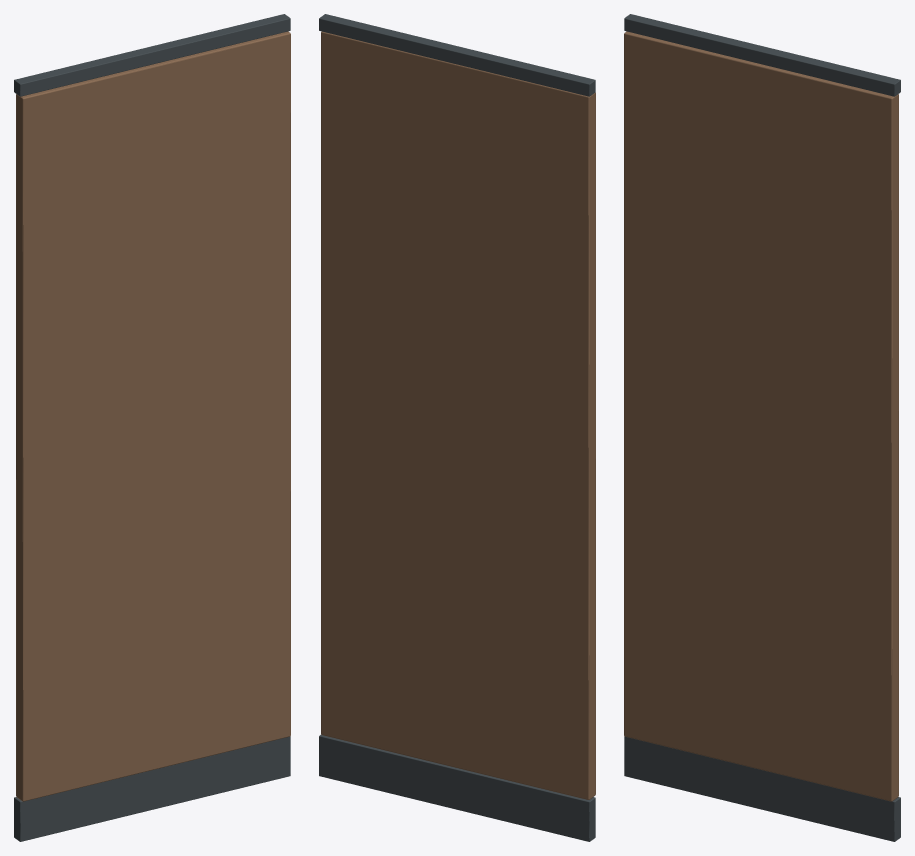
The model's file is walnut_panel.glb.
3 views of the same model, side by side, from view 1: azimuth 30°, elevation 25°; view 2: azimuth 150°, elevation 25°; view 3: azimuth 330°, elevation 25° (orthographic).
Visible parts, largest first — view 1: Face, Trim; view 2: Face, Trim; view 3: Face, Trim.
Boxes of the visible parts, x1,y1,x2,y2 form: Face: [16, 31, 290, 801]; Trim: [14, 14, 290, 841]; Face: [321, 31, 595, 799]; Trim: [319, 14, 595, 841]; Face: [624, 31, 898, 801]; Trim: [624, 14, 900, 841].
Size of the model in its own units: 1.18 by 3.16 by 0.0595.
